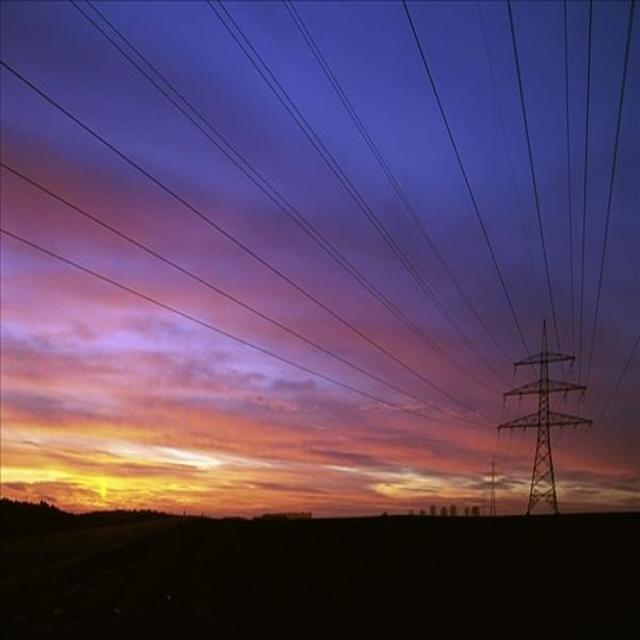non-critical vegetation: (504, 322, 590, 510)
